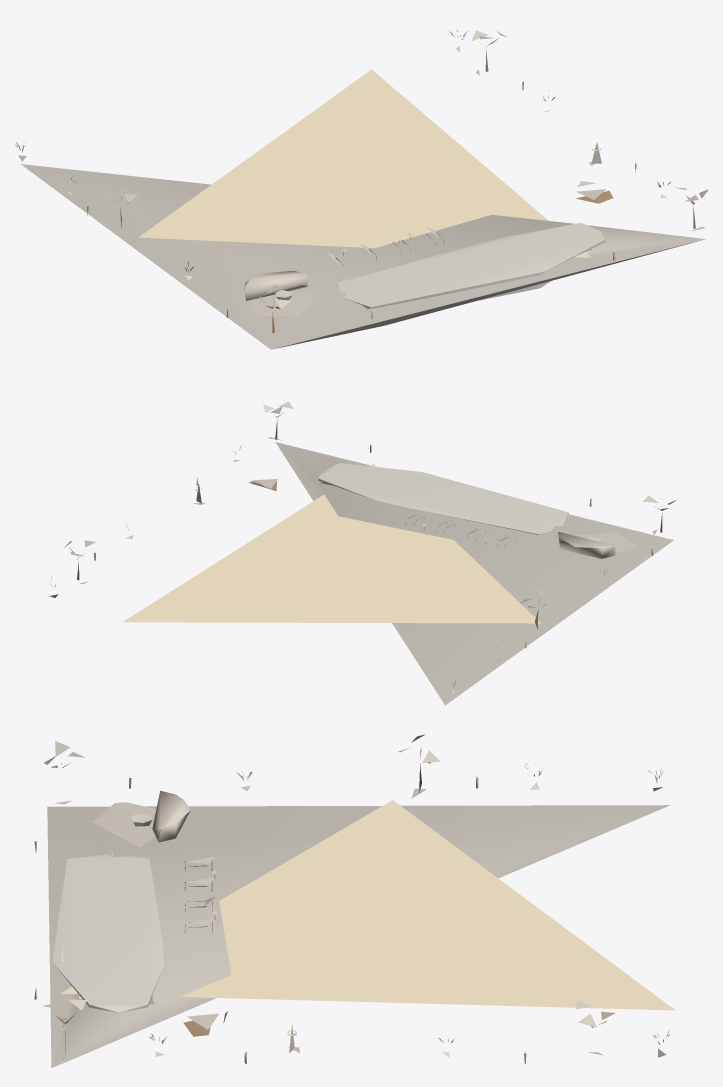
The model's file is Villa_Core_LOD0.dae.
The picture shows the model from 3 angles, top to bottom: view 1: azimuth 30°, elevation 25°; view 2: azimuth 150°, elevation 25°; view 3: azimuth 270°, elevation 25°; orthographic projection. The views are drawn at different scales.
Visible parts, largest first — view 1: Site_Deck_LOD0, Site_Coping_LOD0, Site_Lounge_Sofa_LOD0, Site_Rug_LOD0, Site_Pool_LOD0; view 2: Site_Deck_LOD0, Site_Coping_LOD0, Site_Lounge_Sofa_LOD0, Site_Rug_LOD0; view 3: Site_Deck_LOD0, Site_Coping_LOD0, Site_Rug_LOD0, Site_Lounge_Sofa_LOD0, Site_Daybed_LOD0.
Boxes of the visible parts, <box> form: Site_Deck_LOD0: <box>21,69,706,349</box>; Site_Coping_LOD0: <box>336,222,604,307</box>; Site_Lounge_Sofa_LOD0: <box>244,270,307,300</box>; Site_Rug_LOD0: <box>252,290,321,315</box>; Site_Pool_LOD0: <box>362,267,550,309</box>; Site_Deck_LOD0: <box>123,442,673,705</box>; Site_Coping_LOD0: <box>318,463,568,534</box>; Site_Lounge_Sofa_LOD0: <box>558,532,615,558</box>; Site_Rug_LOD0: <box>574,532,635,559</box>; Site_Deck_LOD0: <box>47,800,675,1068</box>; Site_Coping_LOD0: <box>52,854,163,1012</box>; Site_Rug_LOD0: <box>92,802,156,847</box>; Site_Lounge_Sofa_LOD0: <box>152,790,190,842</box>; Site_Daybed_LOD0: <box>183,1011,227,1036</box>.
Bounding box in the file's own units: 36.06 × 36.06 × 4.61.
